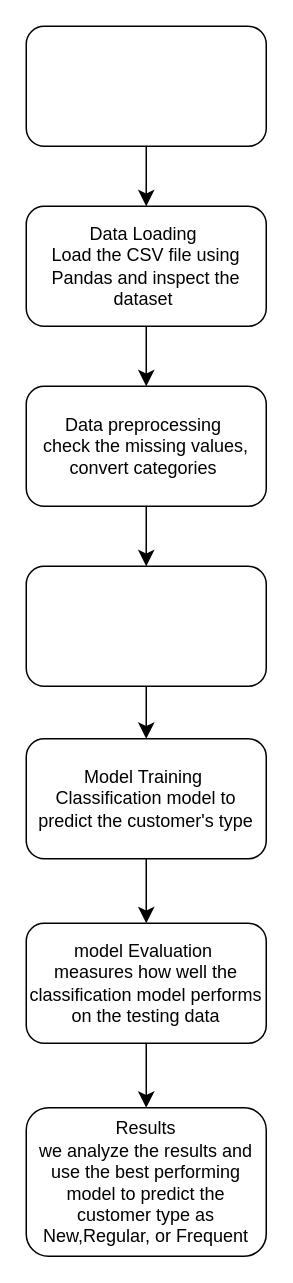
The diagram is 293 pixels wide and 1283 high, and some of its shapes have lost their labels. The centre of each missing label's shape, as x and y in pixels:
"Dataset Selection Online Food Delivery" belongs at [145,85].
"Train / Test split split the dataset into training set and testing set" belongs at [145,625].
